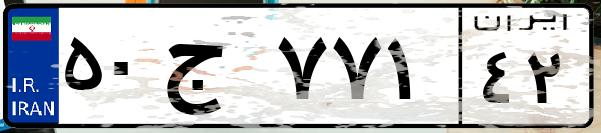0: (110, 28, 158, 98)
1: (385, 28, 445, 110)
2: (525, 38, 570, 115)
4: (475, 38, 525, 113)
5: (57, 26, 110, 100)
7: (270, 28, 330, 110), (330, 28, 385, 110)
ج: (158, 20, 270, 120)
